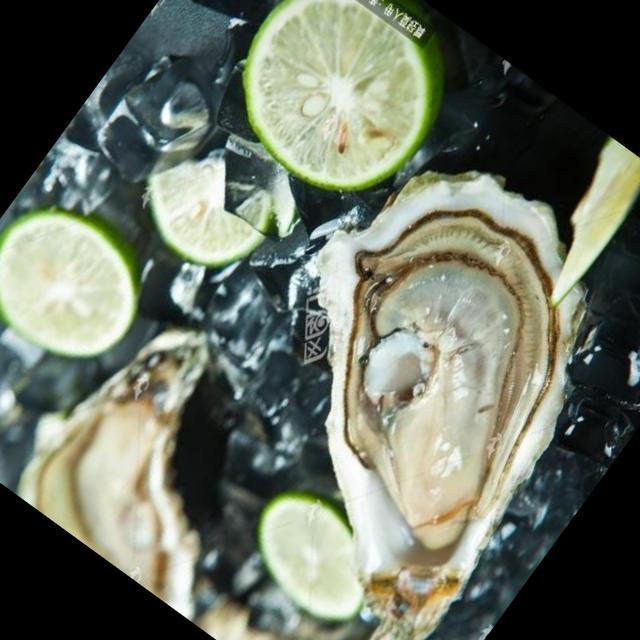Oyster-Open: (135, 95, 640, 640), (0, 265, 336, 622)
